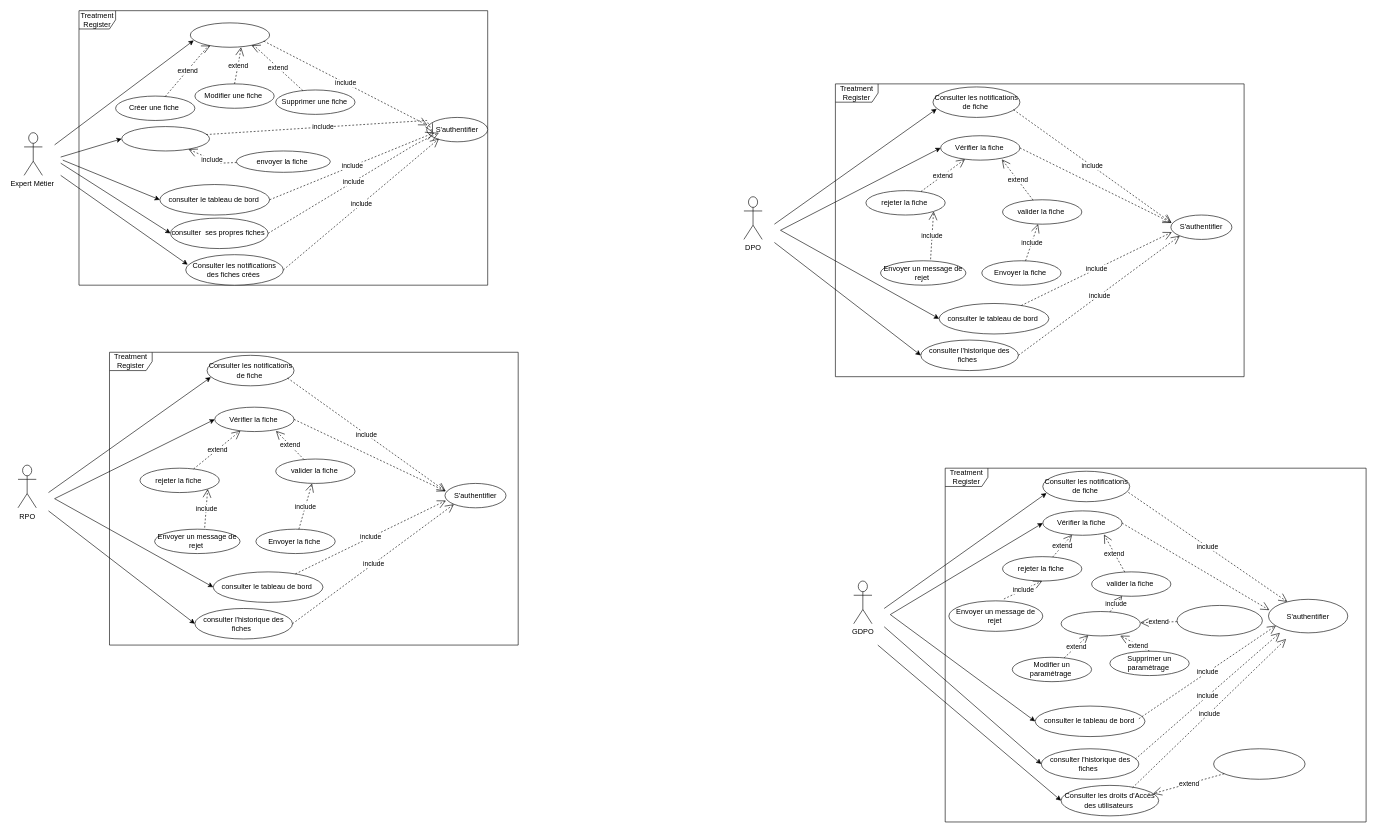
The diagram is 1377 pixels wide and 833 high, and some of its shapes have lost their labels. The shapes that lost their labels are listed below. From the top down, each one's centre as x and y in pixels, then its label:
At point 230,34: "gérer la fiche".
At point 165,138: "remplir la fiche".
At point 1100,623: "Régler des paramétrages".
At point 1219,620: "Ajouter de détails dans paramétrage".
At point 1259,763: "Modifier droits d'Accès".
